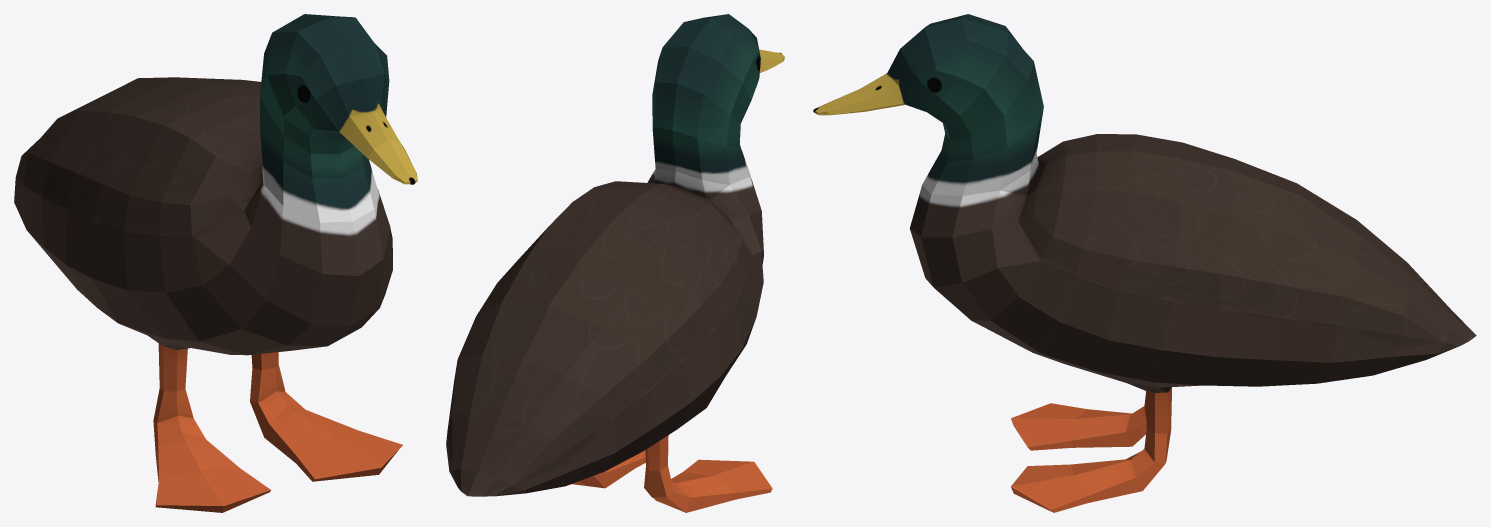
File: duck.glb
3 views of the same model, side by side, from view 1: azimuth 30°, elevation 25°; view 2: azimuth 150°, elevation 25°; view 3: azimuth 270°, elevation 25° (orthographic). The views are drawn at different scales.
Parts seen in each view (by area): view 1: MallardDuck_Mesh; view 2: MallardDuck_Mesh; view 3: MallardDuck_Mesh.
Part boxes in pixels (x1,y1,x2,y2): MallardDuck_Mesh: (14,14,417,512); MallardDuck_Mesh: (446,14,784,512); MallardDuck_Mesh: (813,14,1476,512).
Size of the model in its own units: 0.2119 by 0.4037 by 0.55.
1 material, 1 textured.
